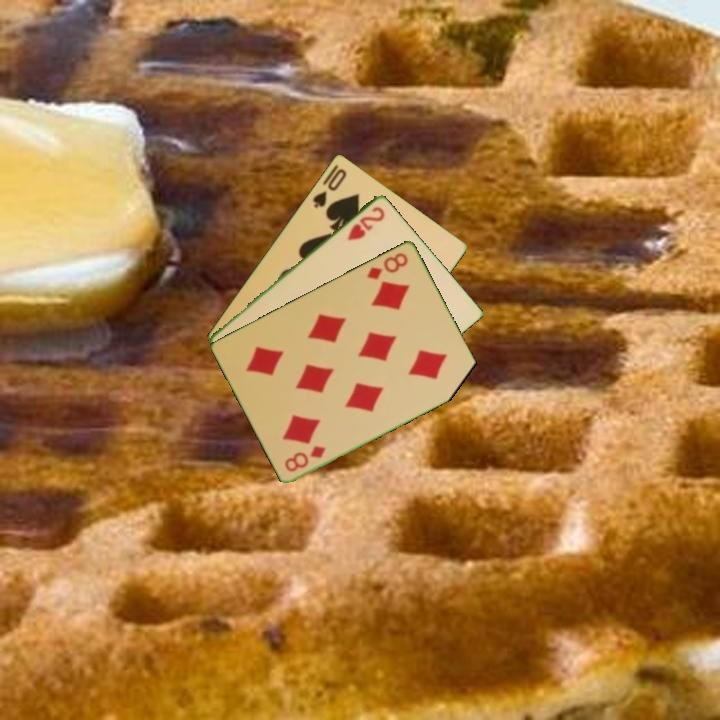10s: (309, 164, 350, 210)
2h: (343, 202, 388, 243)
8d: (363, 249, 411, 282), (281, 441, 329, 474)
